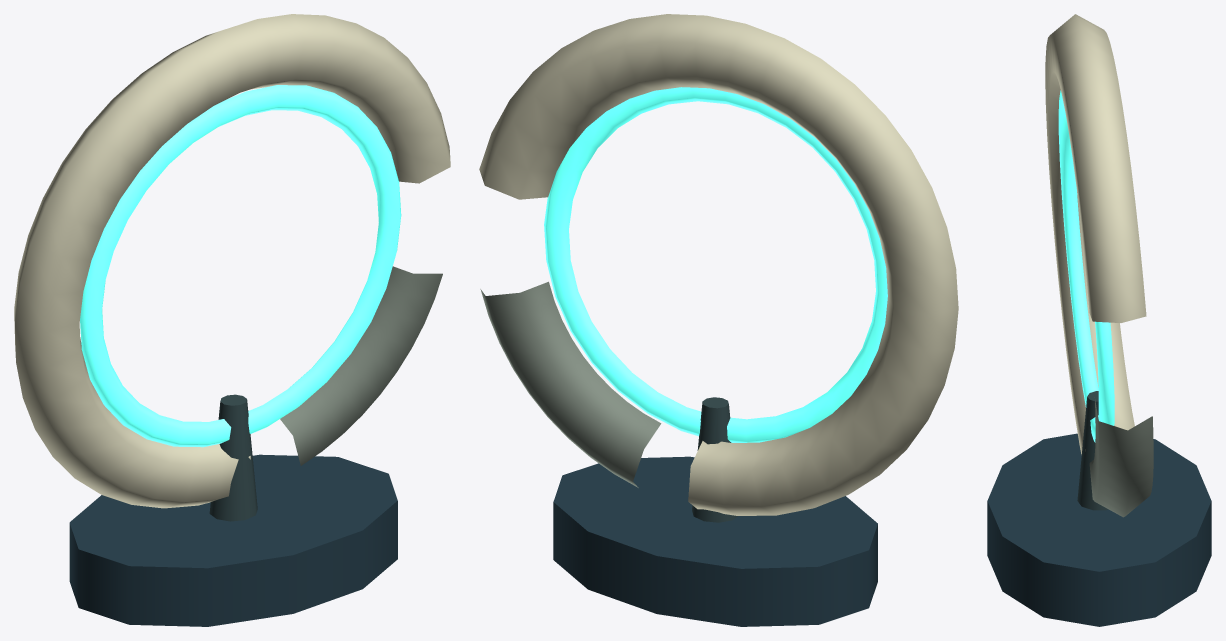
File: ruin-ring.glb
3 renders of one model, left to right at view 1: azimuth 30°, elevation 25°; view 2: azimuth 150°, elevation 25°; view 3: azimuth 270°, elevation 25°, orthographic. The views are drawn at different scales.
Visible parts, largest first — view 1: Vesper / ruin-ring; view 2: Vesper / ruin-ring; view 3: Vesper / ruin-ring.
Part boxes in pixels (<box>): Vesper / ruin-ring: <box>14,14,450,626</box>; Vesper / ruin-ring: <box>479,14,958,626</box>; Vesper / ruin-ring: <box>987,14,1211,626</box>.
Bounding box in the file's own units: 3.11 × 3.57 × 1.4.
